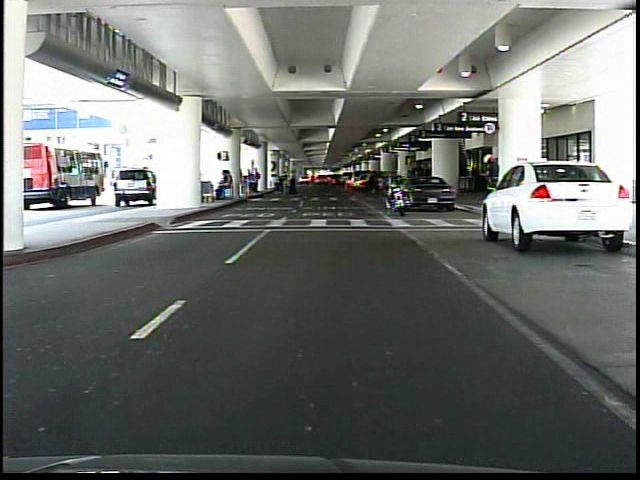person: (475, 149, 502, 222)
